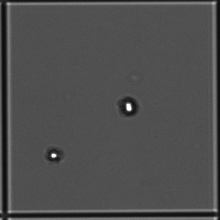Living Cell: (116, 94, 141, 118), (41, 144, 67, 165)
